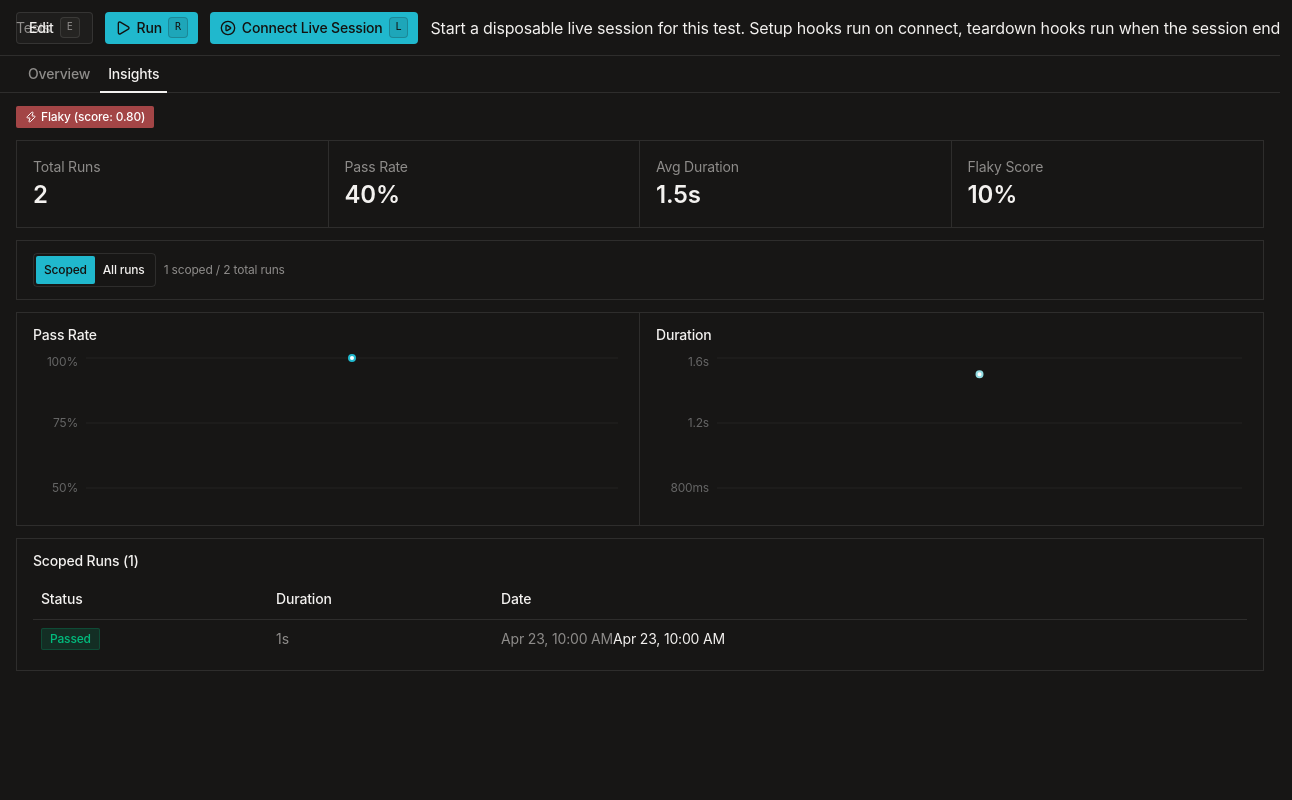
Test case: TestViewerPage URL state contract › switches test insight metrics between scoped and all runs locally
This screenshot has width=1292, height=800.
Click the button "All runs" at [124, 270], box top-left (95, 256), bottom-right (153, 284)
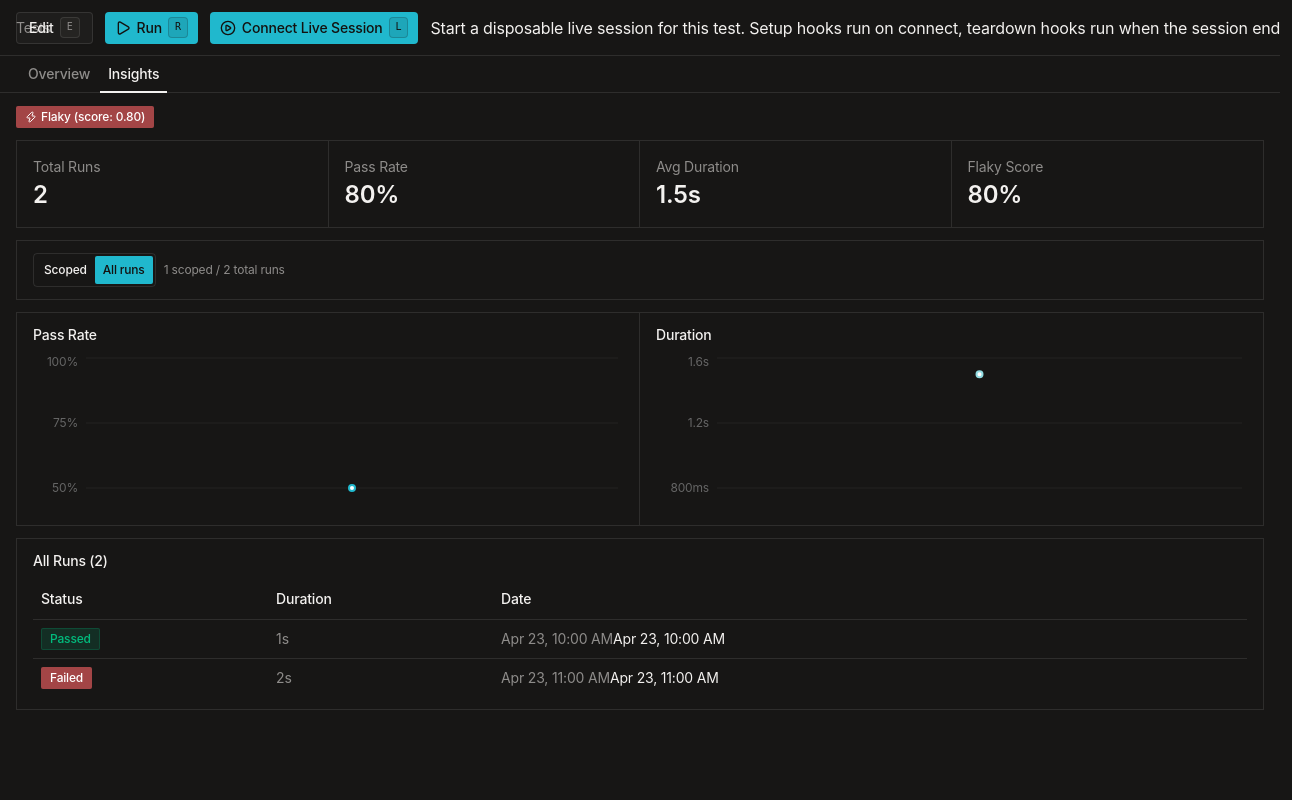
Expected: the text "80%" is shown, top-left (344, 180), bottom-right (399, 209)
Expected: the text "All Runs (2)" is shown, top-left (33, 552), bottom-right (108, 569)
